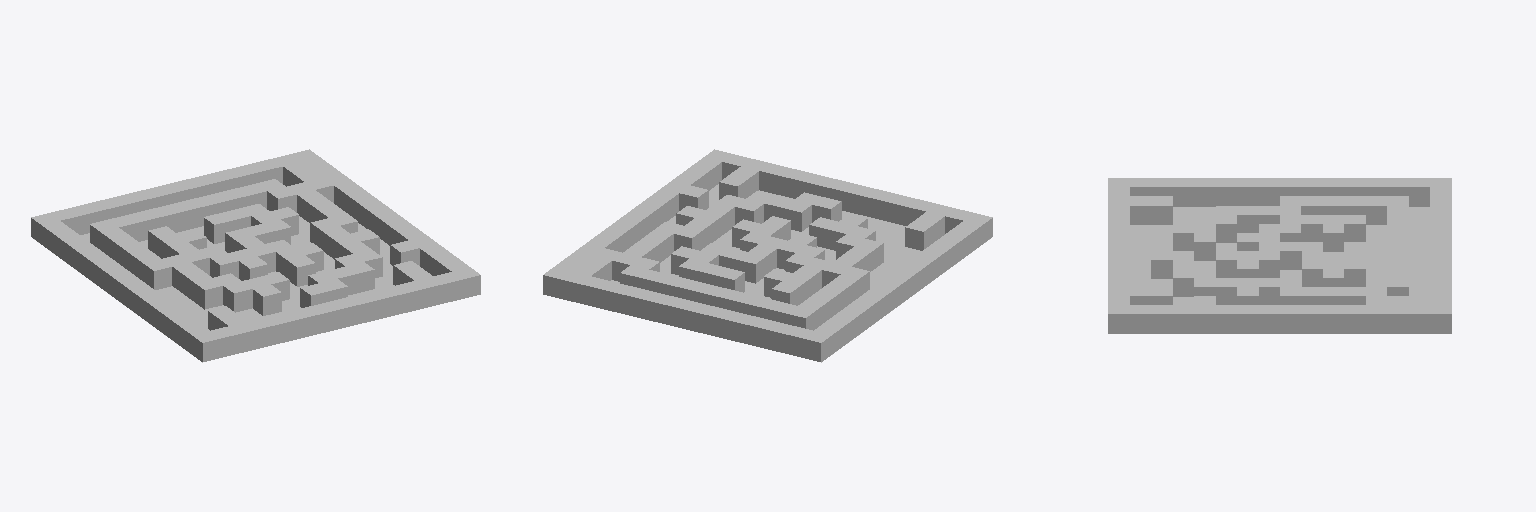
File: labyrinth.obj
The picture shows the model from 3 angles: view 1: azimuth 30°, elevation 25°; view 2: azimuth 150°, elevation 25°; view 3: azimuth 270°, elevation 25°; orthographic projection.
Visible parts, largest first — view 1: Cube.001, Plane; view 2: Cube.001, Plane; view 3: Cube.001, Plane.
Boxes of the visible parts, box(x1,y1,x2,y2) form: Cube.001: box(31, 149, 480, 361); Plane: box(34, 216, 394, 362); Cube.001: box(543, 149, 992, 361); Plane: box(611, 184, 989, 362); Cube.001: box(1108, 178, 1451, 333); Plane: box(1130, 207, 1429, 304).
Size of the model in its own units: 15.01 by 1 by 16.